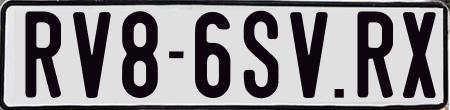6: (194, 10, 230, 96)
8: (119, 9, 156, 100)
R: (23, 9, 63, 101), (354, 9, 393, 100)
S: (244, 11, 283, 101)
V: (290, 11, 333, 103), (70, 9, 111, 98)
X: (402, 10, 436, 98)
